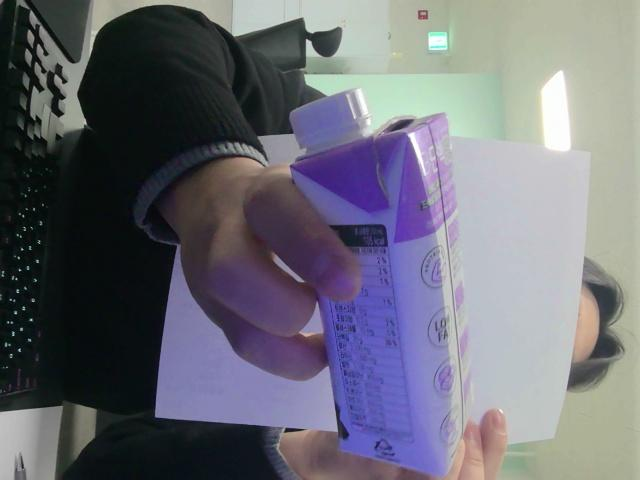milk: (290, 89, 472, 474)
